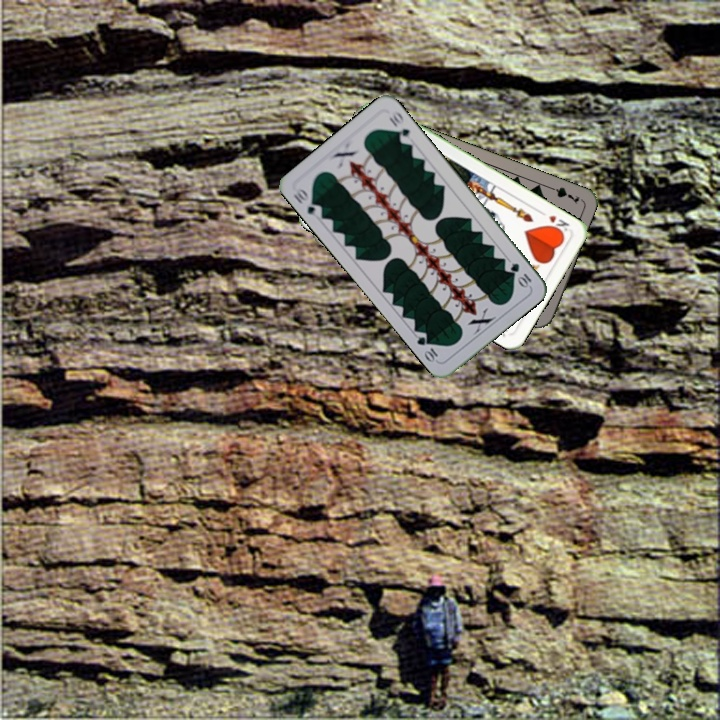G10: (289, 183, 325, 218), (506, 259, 534, 290)
G7: (543, 182, 582, 207)
HK: (535, 207, 572, 237)
